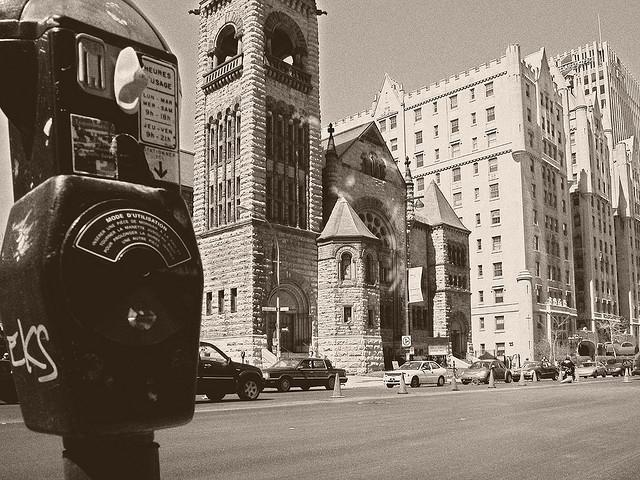car: (197, 342, 266, 402), (262, 356, 350, 392), (383, 360, 448, 388), (460, 359, 514, 384), (513, 360, 559, 382), (576, 361, 608, 378), (606, 358, 626, 377)
